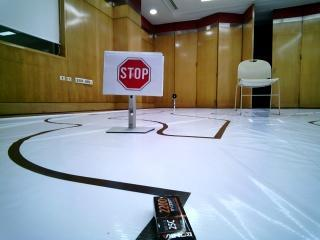stop: (109, 56, 168, 95)
